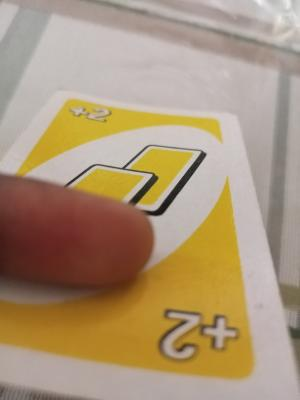-2: (145, 287, 250, 378), (64, 102, 116, 142)
yellow: (62, 138, 207, 202)
